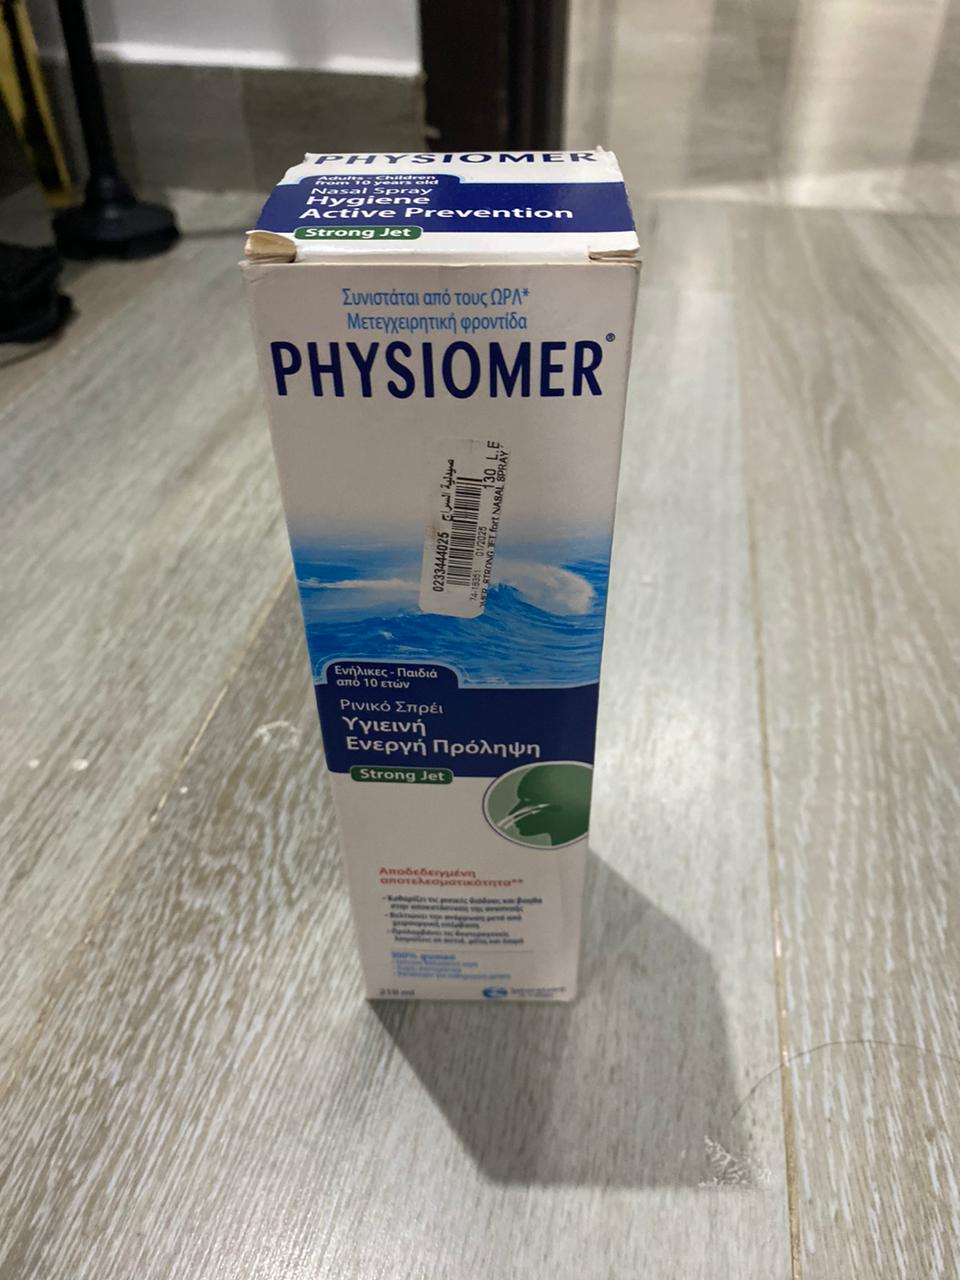Physiomer: (241, 148, 646, 1007)
